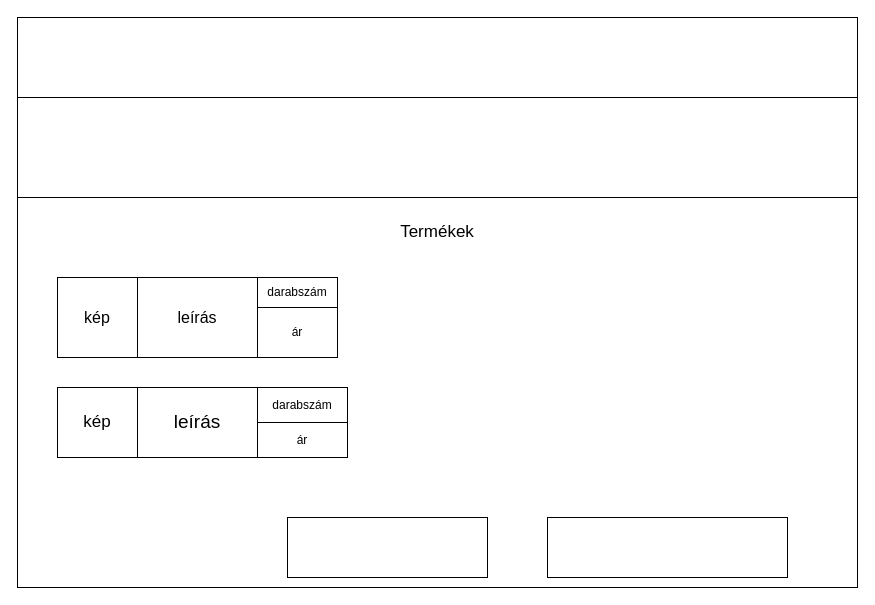
Some shapes in this 875 by 605 pixel diagram are drawn without their labels. Here are the shapes that lost their labels. From the top down, the centre of each, then its label:
At pixel 437 57: "Header".
At pixel 437 147: "Navigáció".
At pixel 387 547: "végösszeg".
At pixel 667 547: "tovább".
